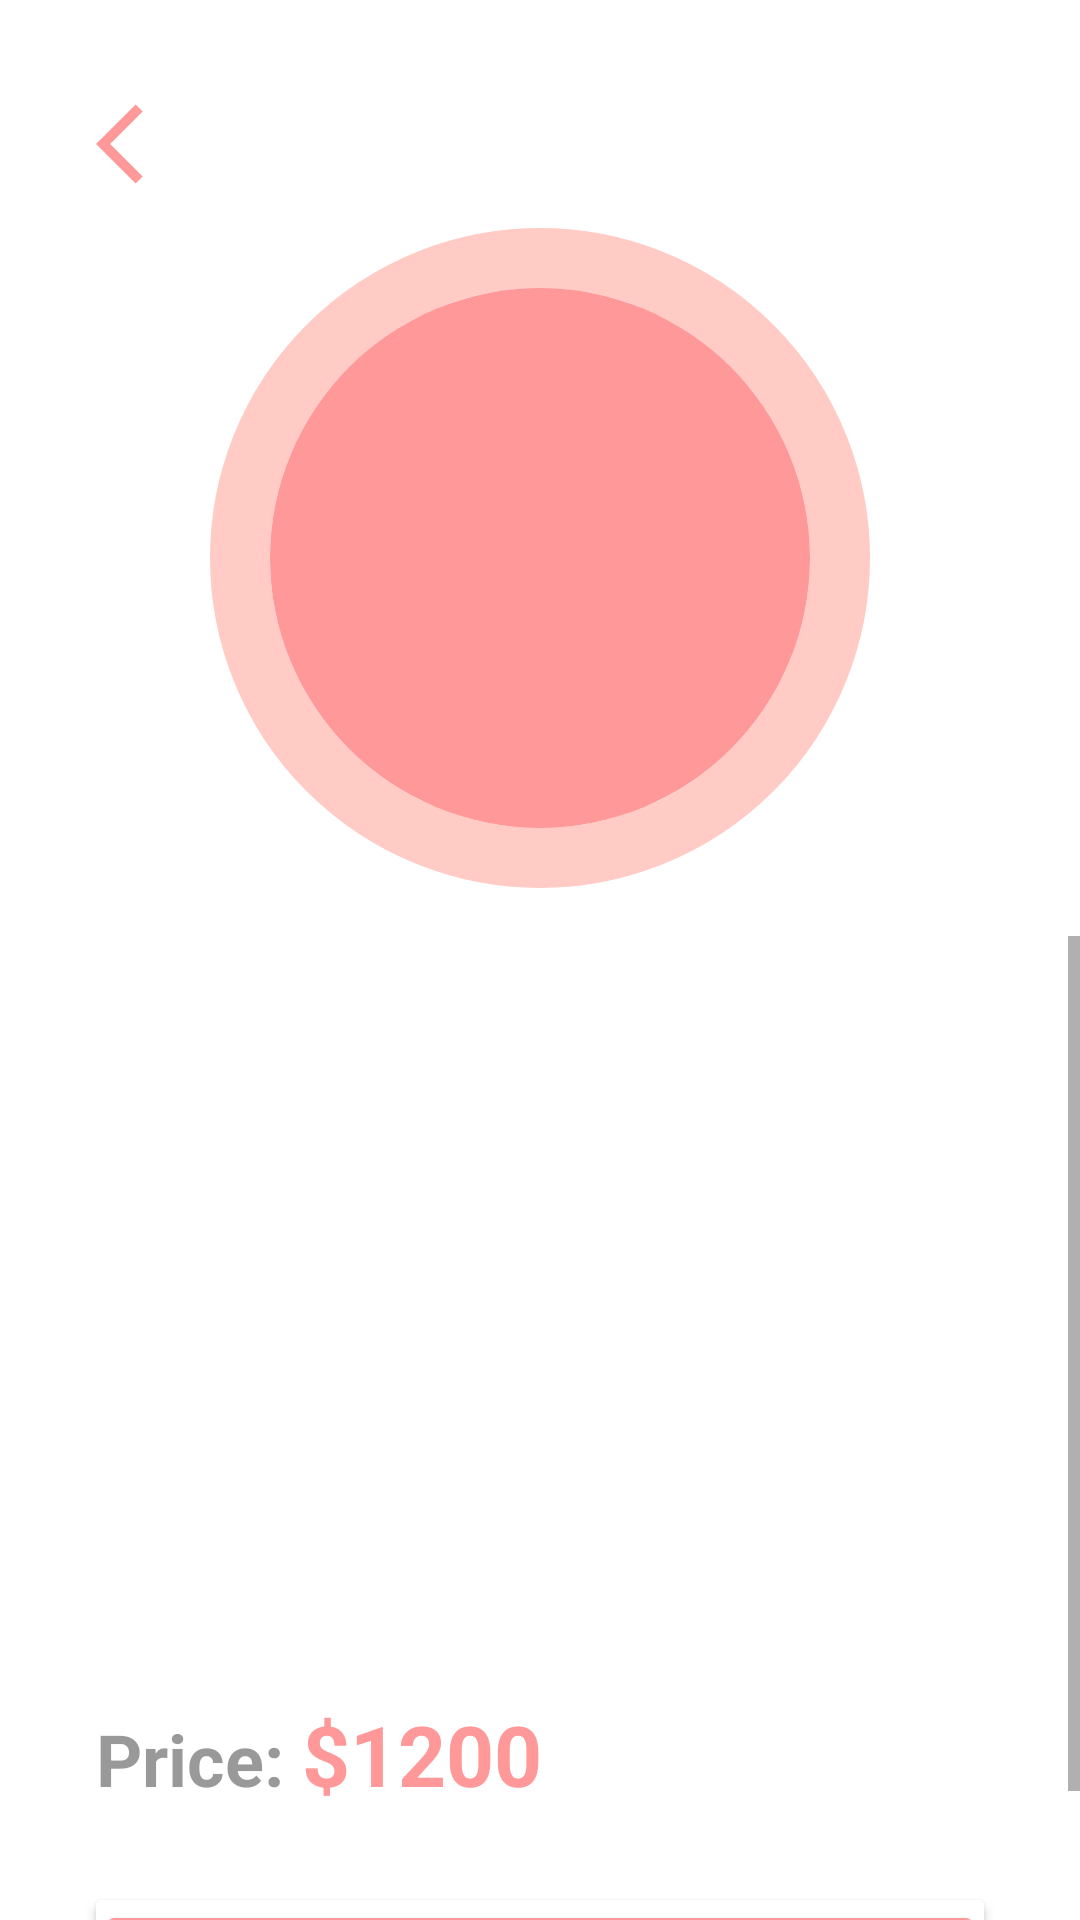

Named icons in this screenshot (1080×1920) and their centers, (x=x, y=y):
arrow back: (x=119, y=144)
